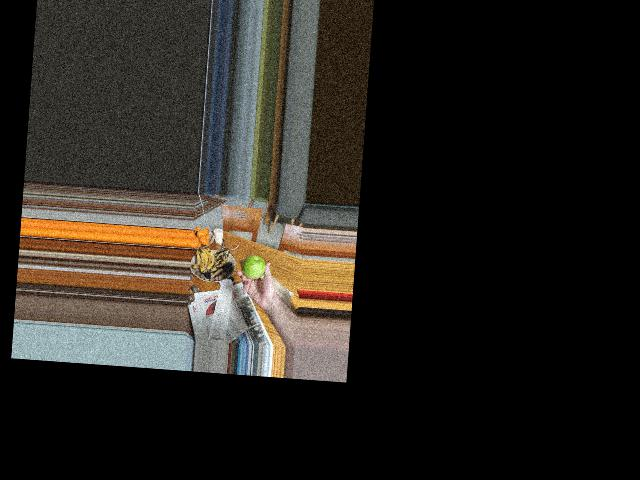apple: (241, 255, 266, 281)
